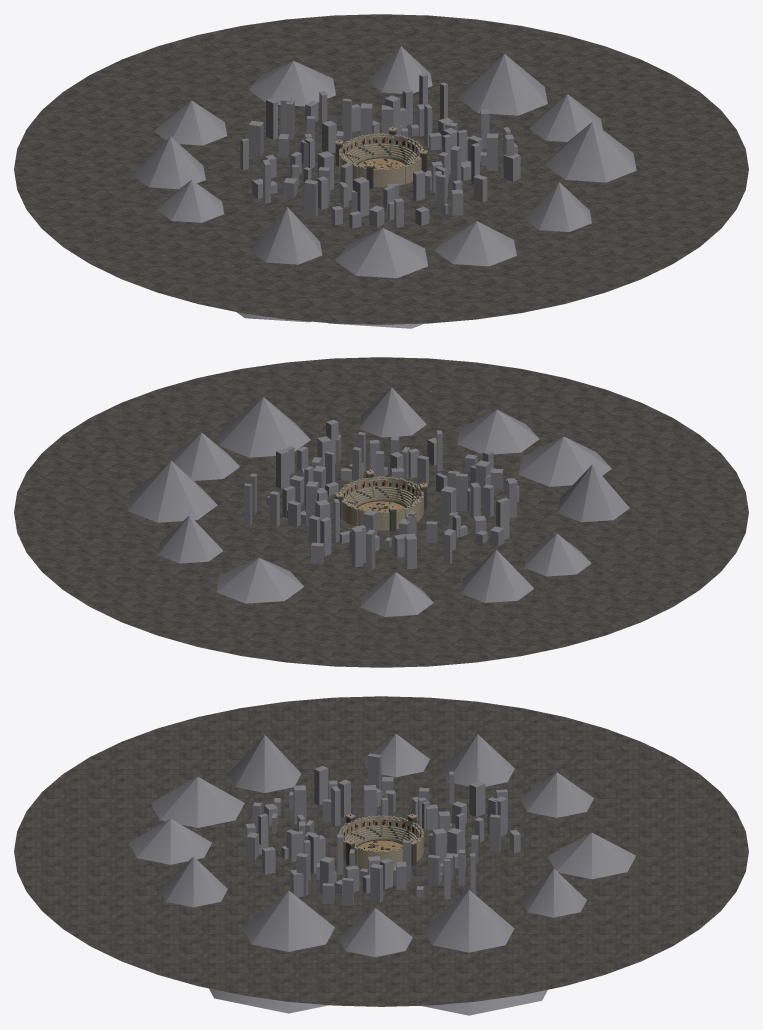
Rendered from arena01_colosseum.glb.
3 renders of one model, top to bottom at view 1: azimuth 30°, elevation 25°; view 2: azimuth 150°, elevation 25°; view 3: azimuth 270°, elevation 25°, orthographic.
Parts seen in each view (by area): view 1: DistantWorld, OuterWall, Tribunes; view 2: DistantWorld, OuterWall, Tribunes; view 3: DistantWorld, OuterWall, Tribunes.
Part boxes in pixels (left/top/right/bottom): DistantWorld: left=14, top=14, right=748, bottom=328; OuterWall: left=335, top=126, right=427, bottom=188; Tribunes: left=345, top=144, right=417, bottom=164; DistantWorld: left=14, top=357, right=748, bottom=667; OuterWall: left=335, top=469, right=427, bottom=531; Tribunes: left=345, top=487, right=417, bottom=507; DistantWorld: left=14, top=696, right=748, bottom=1015; OuterWall: left=339, top=813, right=423, bottom=868; Tribunes: left=344, top=826, right=417, bottom=846.
Bounding box in the file's own units: 800 × 104 × 800.
37 materials, 9 textured.
